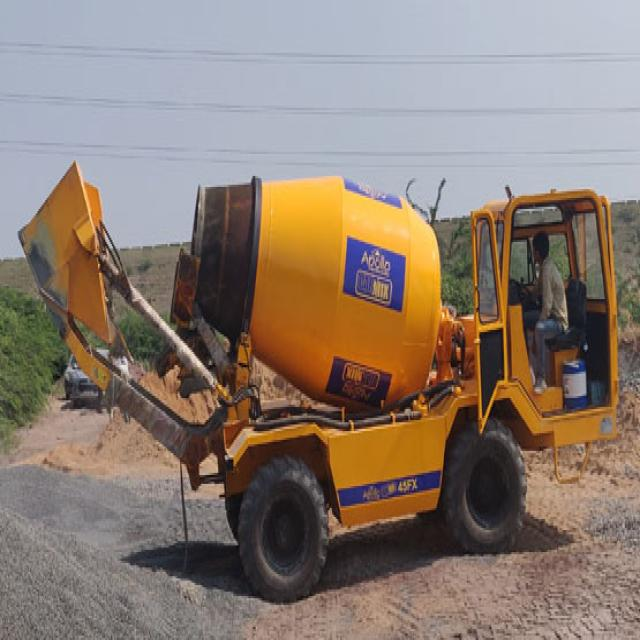truck: (20, 164, 618, 601)
